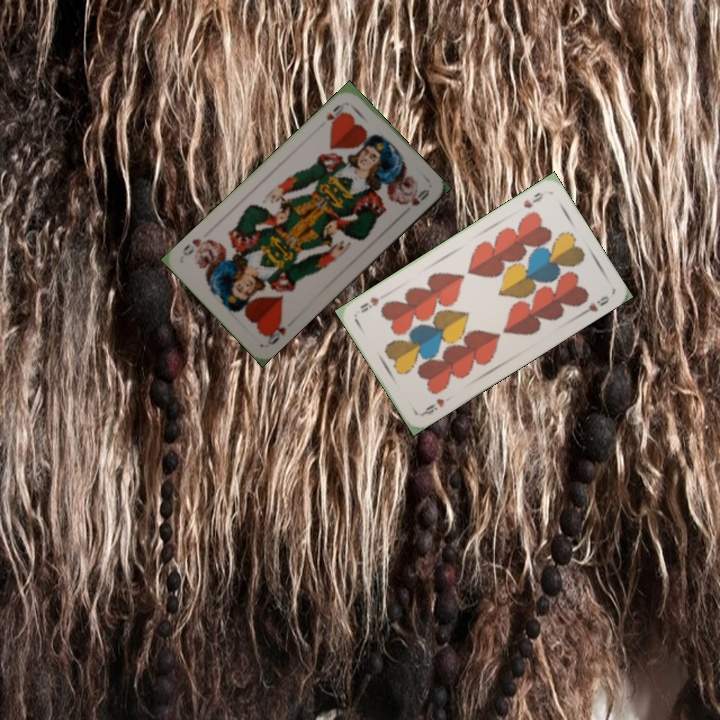H9: (417, 394, 447, 418), (519, 188, 546, 211)
HO: (261, 315, 289, 347), (322, 98, 348, 130)
